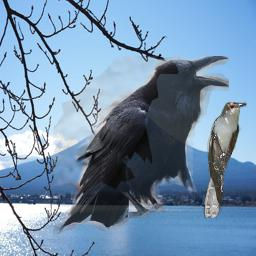Crow: (53, 56, 229, 237)
Cuckoo: (203, 100, 247, 218)
